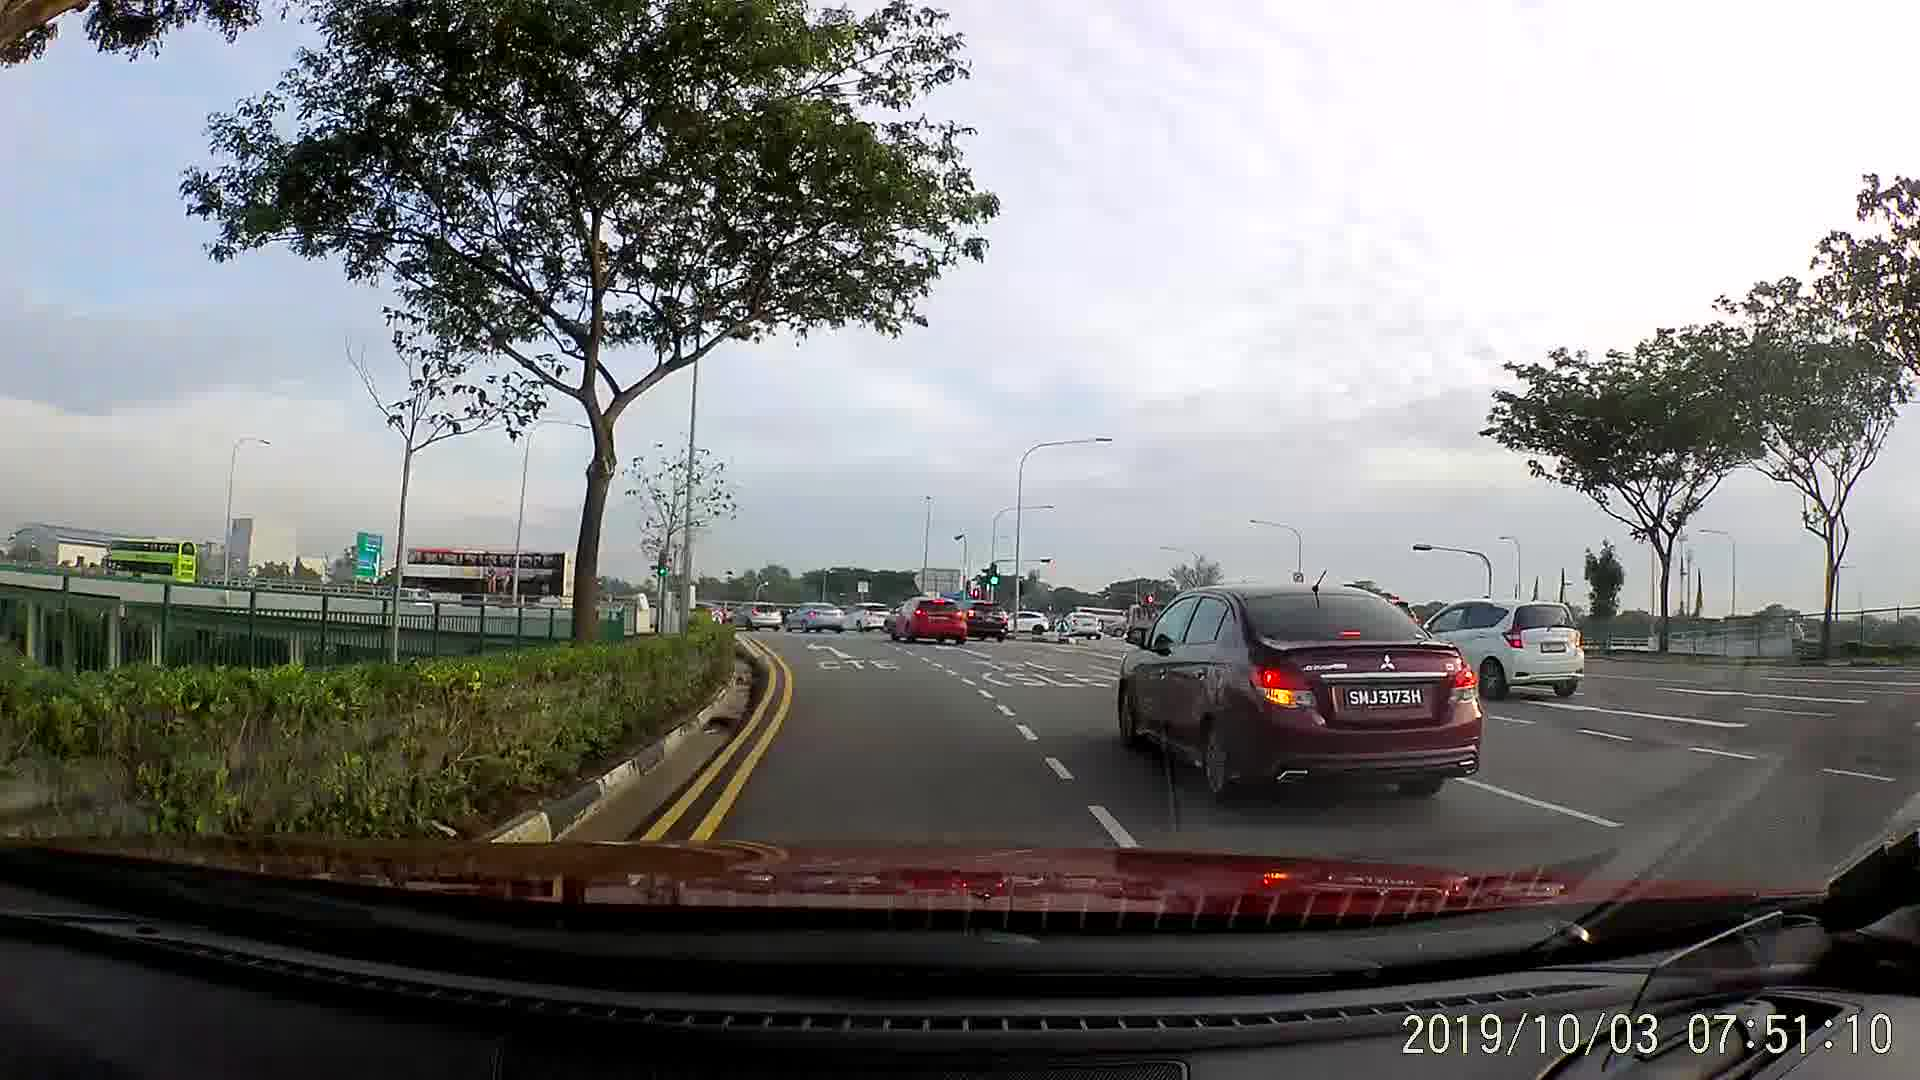bus: (404, 549, 572, 613), (99, 535, 199, 588)
car: (1109, 583, 1480, 804), (1427, 601, 1581, 705), (887, 591, 971, 644), (956, 597, 1007, 637), (727, 597, 785, 632), (790, 599, 847, 632), (849, 599, 895, 637), (1004, 607, 1054, 641), (1063, 611, 1102, 637)
